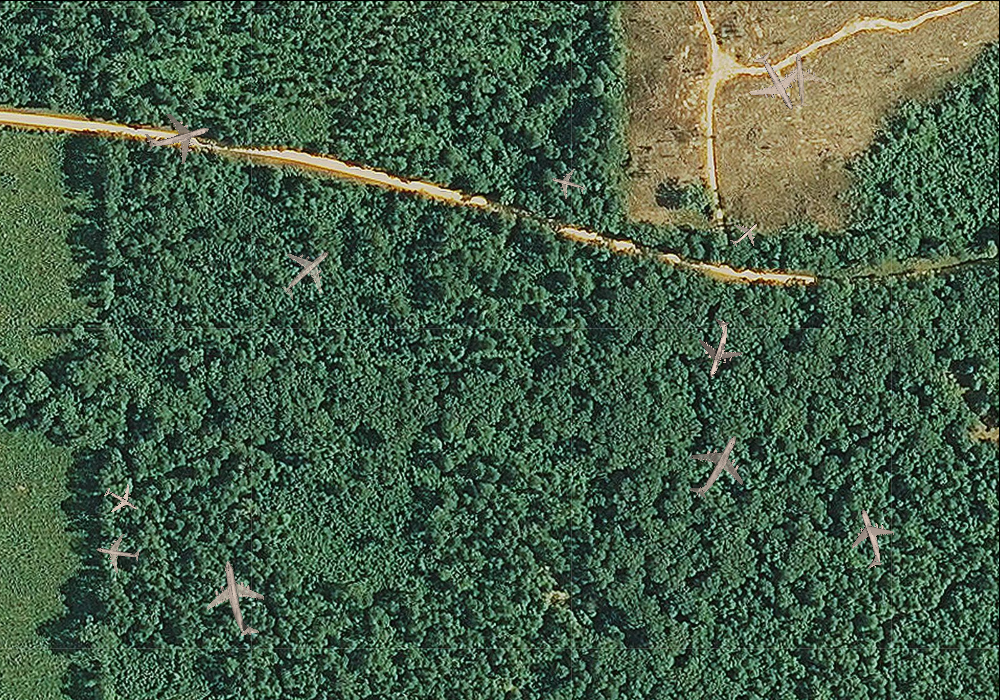plane: (670, 418, 763, 513), (196, 554, 279, 643), (265, 231, 348, 314), (735, 39, 817, 123), (138, 97, 216, 173), (834, 501, 905, 575), (683, 312, 752, 385), (772, 51, 828, 110), (92, 528, 143, 577), (96, 476, 144, 524), (723, 211, 767, 255), (547, 163, 589, 204)
